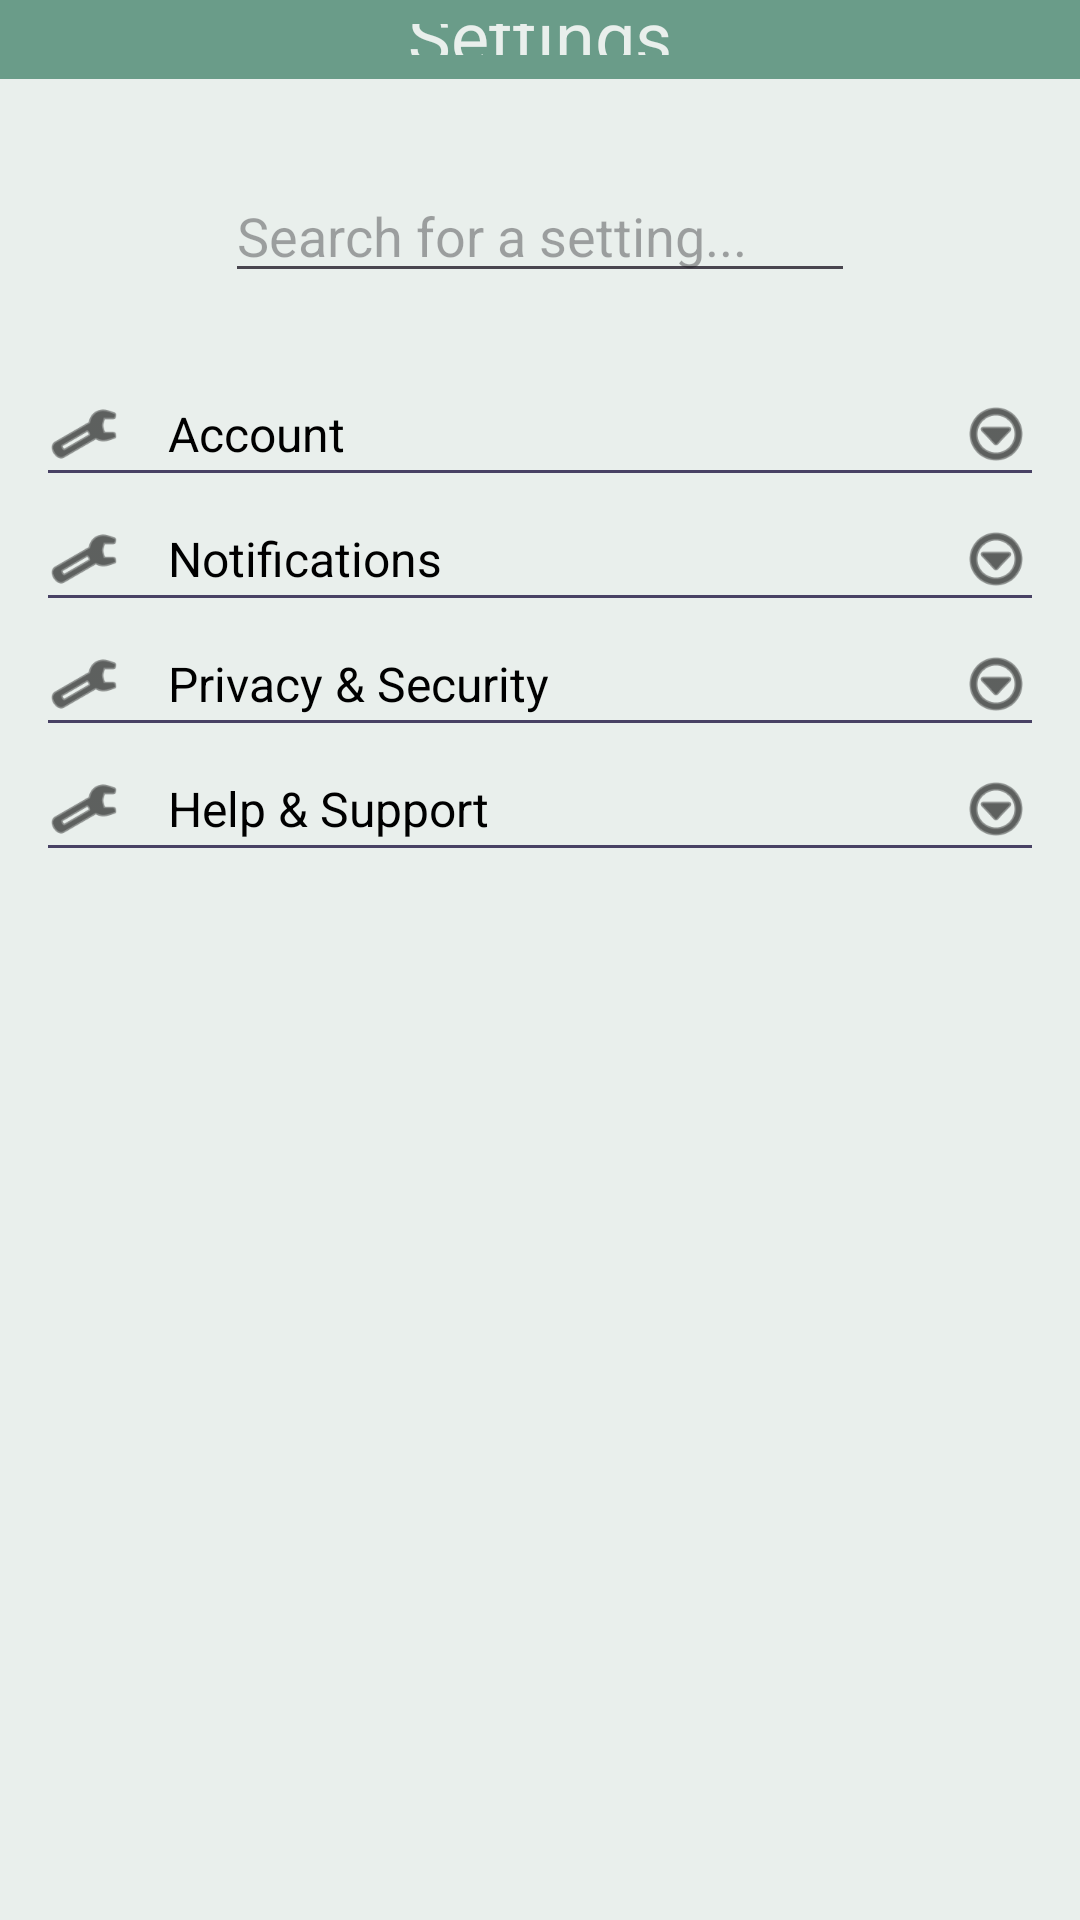

Icon click points for this 1080w x 1920h phone screenshot, format point (x, y):
manage: point (83, 434), point (83, 559), point (83, 684), point (83, 809)
more: point (996, 434), point (996, 559), point (996, 684), point (996, 809)
